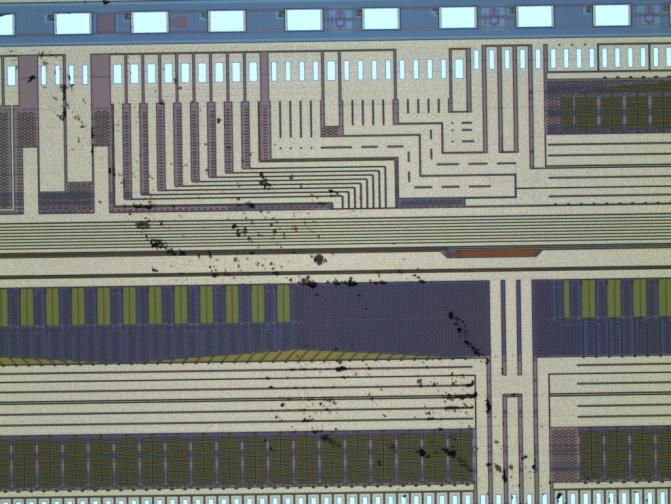PO CONTAMINATION: (4, 1, 565, 503)
